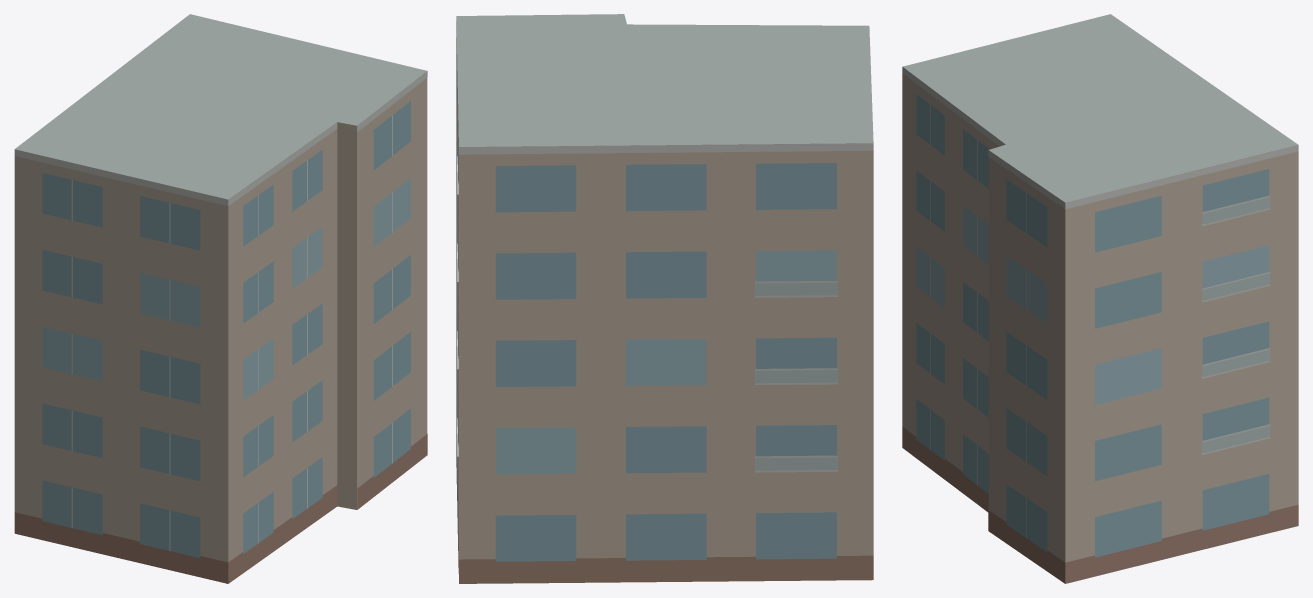
File: survey-upis-32862822.glb
3 views of the same model, side by side, from view 1: azimuth 30°, elevation 25°; view 2: azimuth 150°, elevation 25°; view 3: azimuth 270°, elevation 25° (orthographic). The views are drawn at different scales.
Visible parts, largest first — view 1: survey-upis-32862822.tmp; view 2: survey-upis-32862822.tmp; view 3: survey-upis-32862822.tmp.
Part boxes in pixels (left/top/right/bottom): survey-upis-32862822.tmp: left=14, top=14, right=427, bottom=583; survey-upis-32862822.tmp: left=456, top=14, right=873, bottom=583; survey-upis-32862822.tmp: left=902, top=14, right=1298, bottom=583.
Size of the model in its own units: 14.98 by 14.1 by 13.29.
